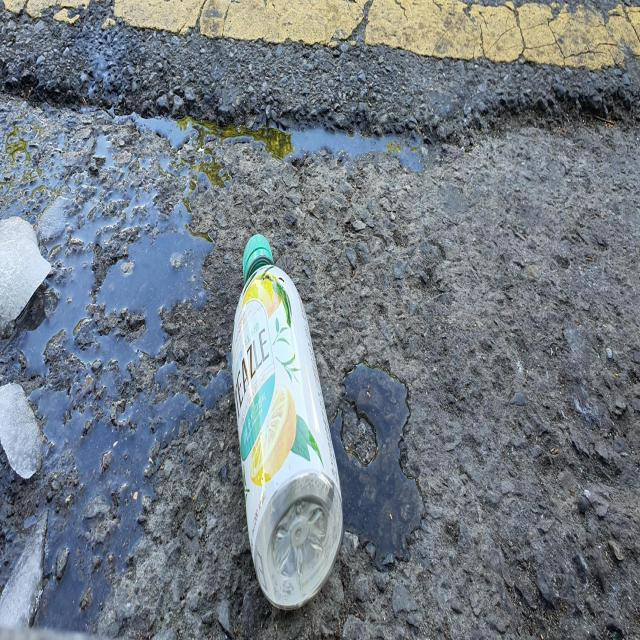plastic: (232, 233, 343, 609)
